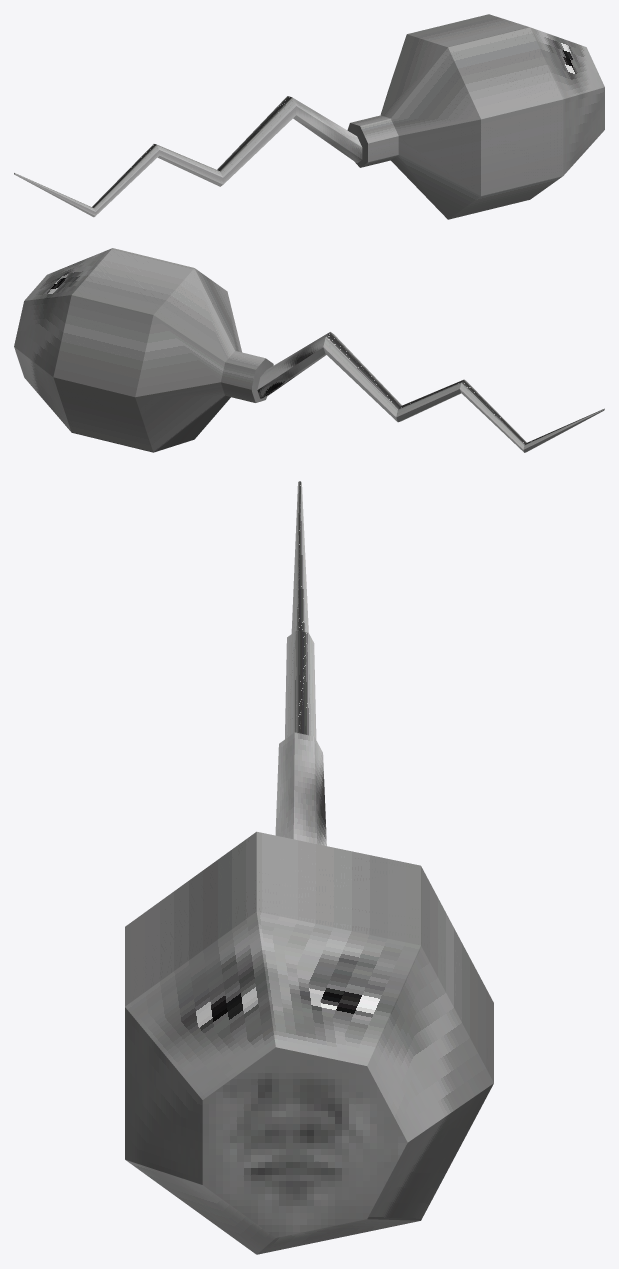
The model's file is SpermEnemy.glb.
3 views of the same model, one above another, from view 1: azimuth 30°, elevation 25°; view 2: azimuth 150°, elevation 25°; view 3: azimuth 270°, elevation 25° (orthographic). The views are drawn at different scales.
Parts seen in each view (by area): view 1: Sperm_Head, Sperm_Tail; view 2: Sperm_Head, Sperm_Tail; view 3: Sperm_Head, Sperm_Tail.
Boxes of the visible parts, x1=… form: Sperm_Head: x1=347, y1=14, x2=604, y2=219; Sperm_Tail: x1=14, y1=96, x2=362, y2=217; Sperm_Head: x1=14, y1=248, x2=273, y2=452; Sperm_Tail: x1=257, y1=332, x2=604, y2=452; Sperm_Head: x1=125, y1=831, x2=493, y2=1254; Sperm_Tail: x1=275, y1=481, x2=326, y2=845.
Bounding box in the file's own units: 6.7 × 1.95 × 1.9.
2 materials, 2 textured.
